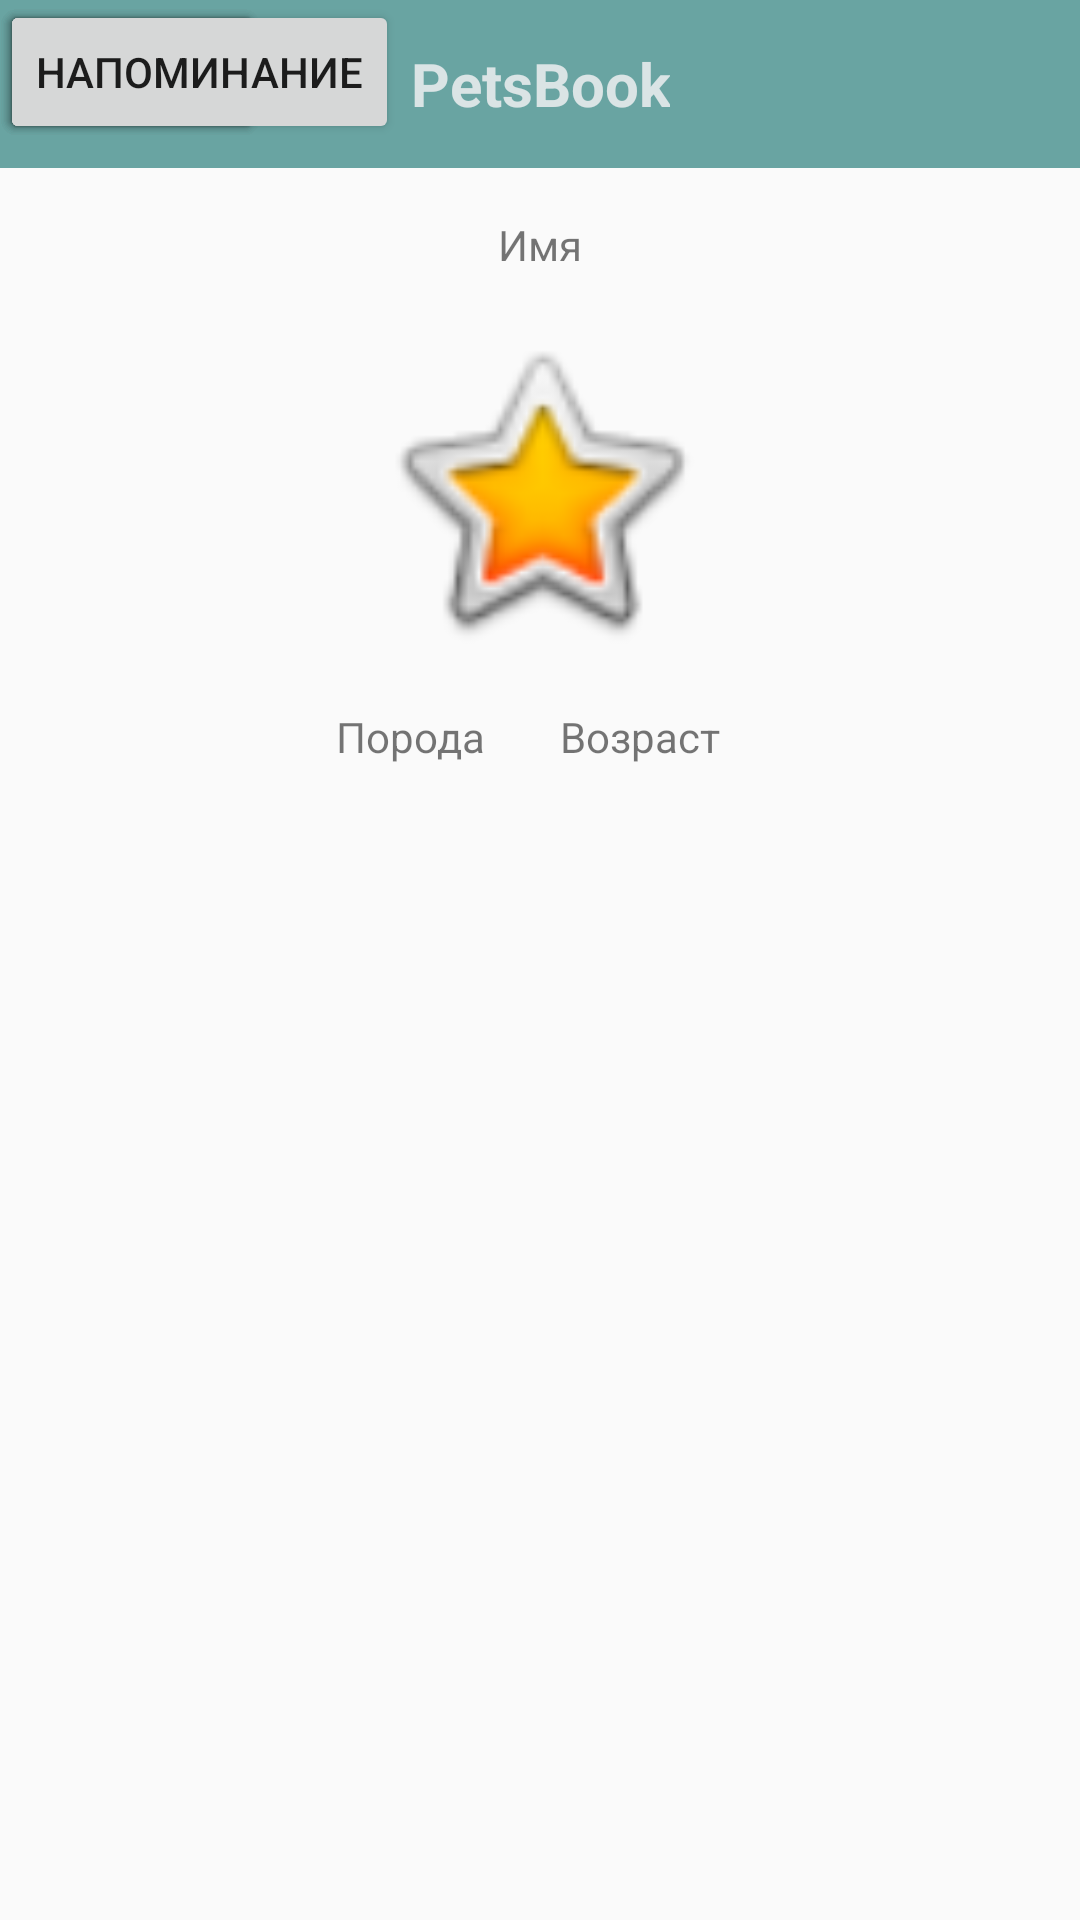

Named icons in this screenshot (1080x1920) and their bounding boxes, (x1, y1, x2, y2):
star on: (401, 355, 685, 631)
